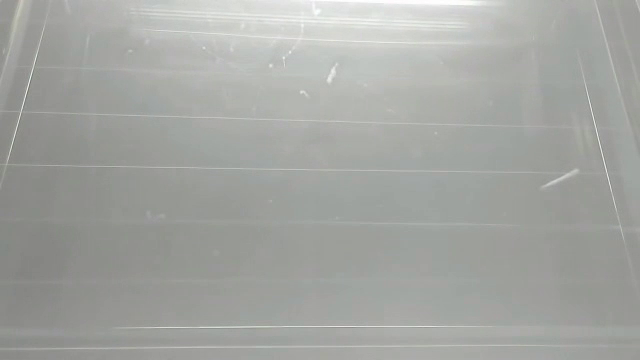alpha: (535, 165, 584, 196), (323, 60, 343, 87)
